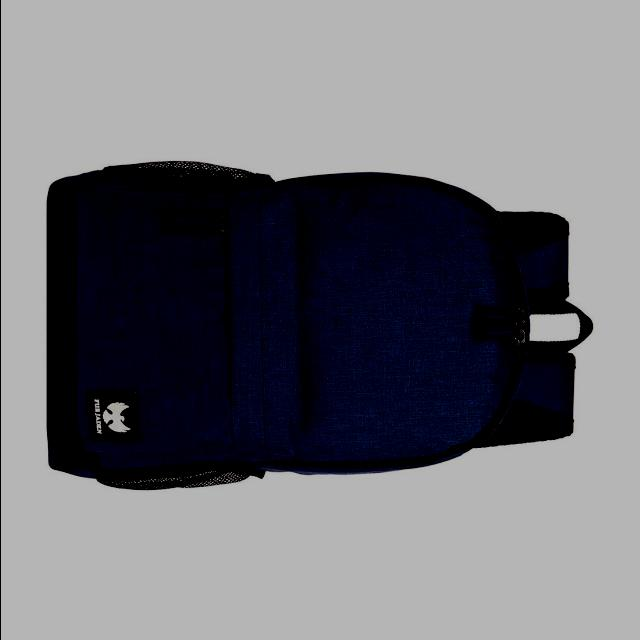backpack: (46, 162, 594, 492)
